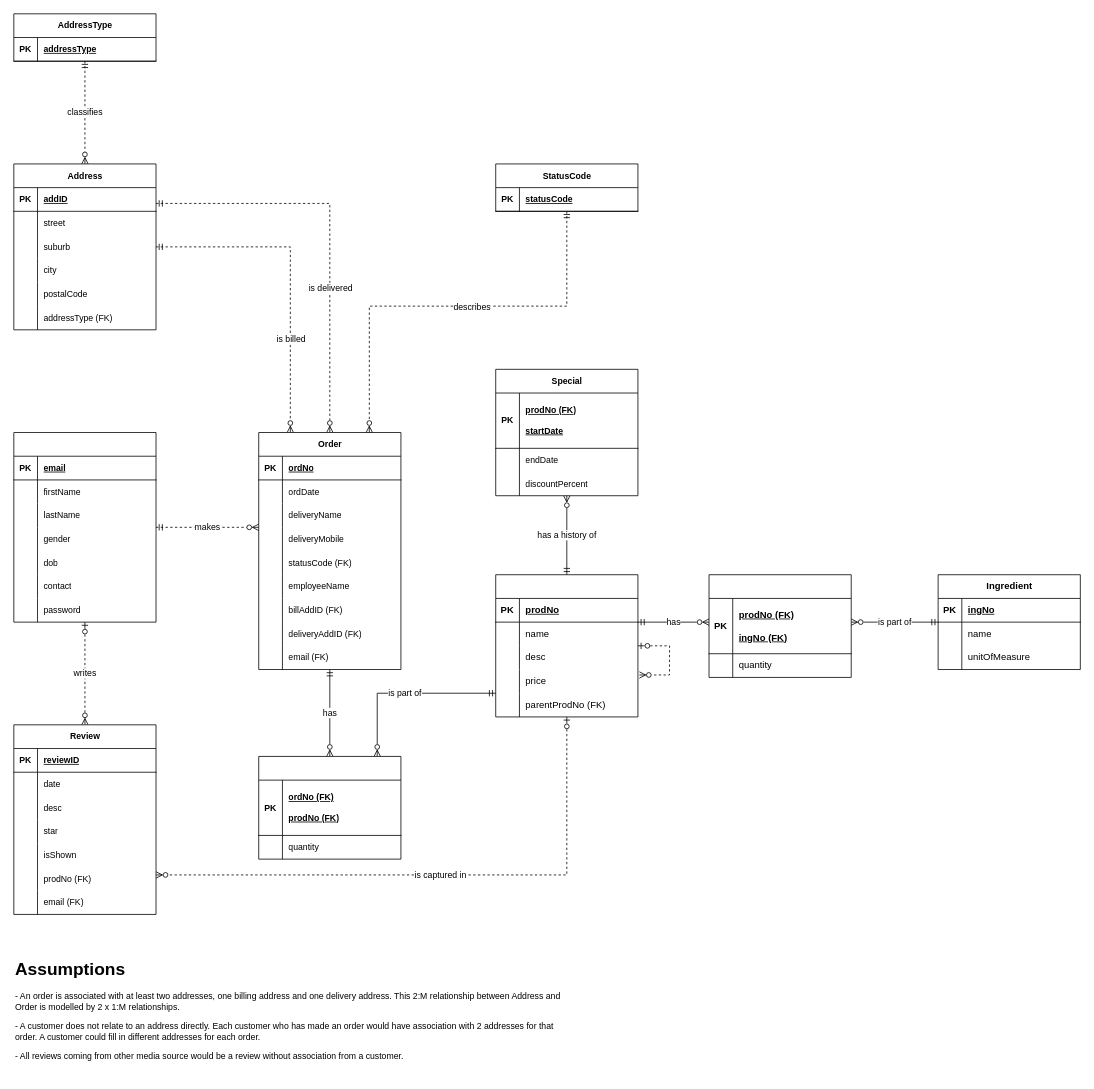
Some shapes in this 1094 by 1089 pixel diagram are drawn without their labels. The box of each missing label's shape, as (x1, y1, x2, y2) in pixels:
Customer: (13, 432, 156, 622)
OrderLine: (258, 756, 401, 859)
Product: (495, 574, 638, 717)
Recipe: (708, 574, 851, 677)
